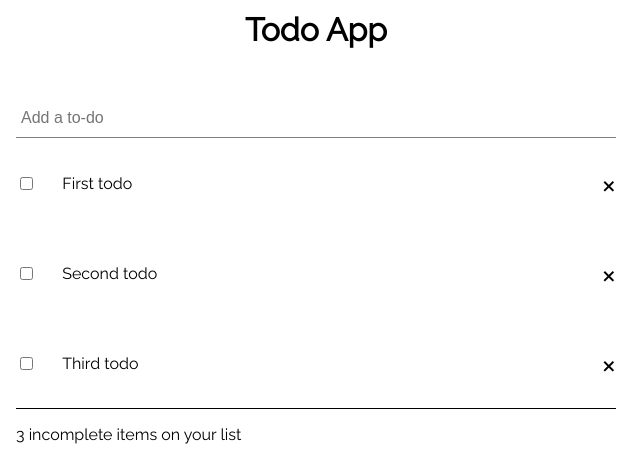
Test case: ng Todo App › Remaining behavior › Should substract one when a Todo is completed
The image size is (633, 461).
Click the checkbox with class "todo-checkbox" next to "Third todo": click(27, 364) [20,357,33,370]
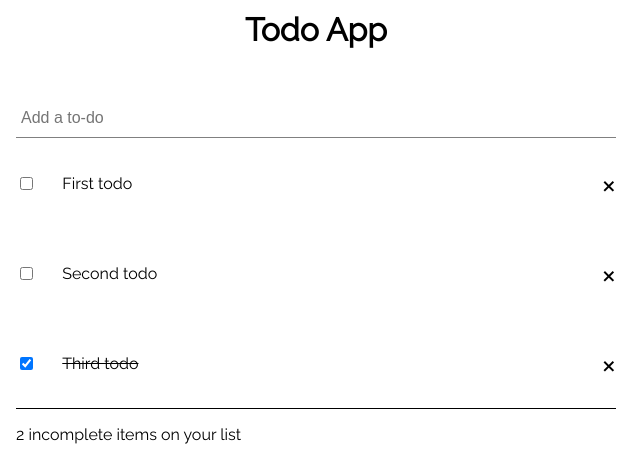
Expected: the text with class "remaining-count" reads "2", [16,425,24,444]
